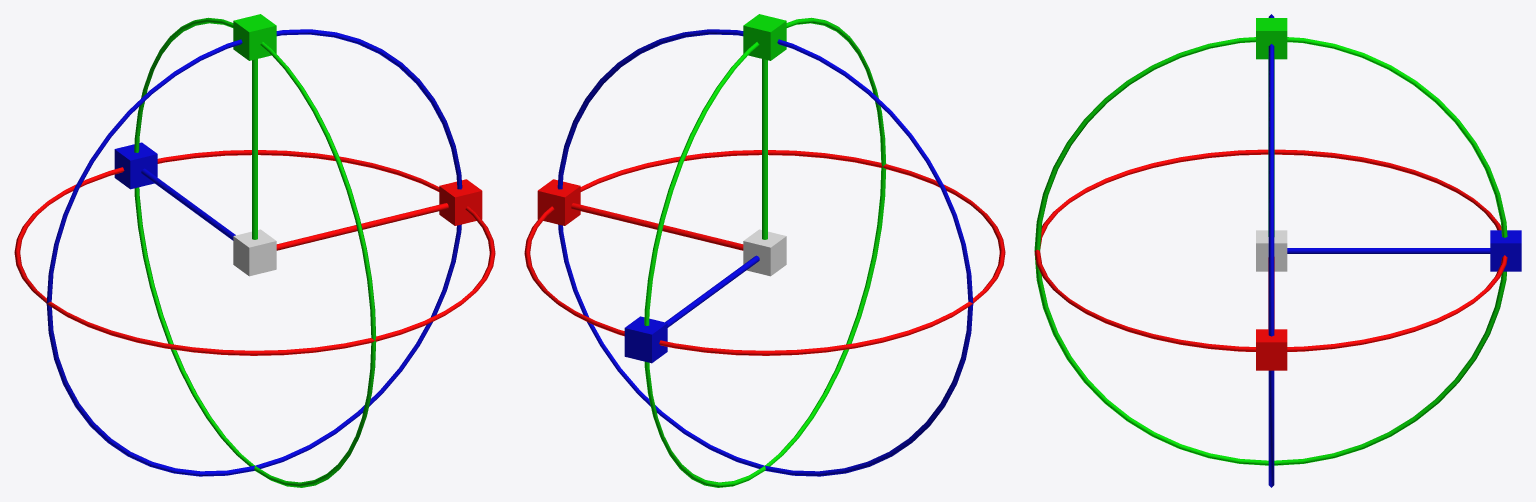
File: Gizmo.glb
3 views of the same model, side by side, from view 1: azimuth 30°, elevation 25°; view 2: azimuth 150°, elevation 25°; view 3: azimuth 270°, elevation 25° (orthographic).
Visible parts, largest first — view 1: Rot_Curve_Z, Rot_Curve_Y, Rot_Curve_X, Scale_Cube_Y, Scale_Cube_X, Scale_Cube_Z, Center_Cube.002, X_Cylinder.001, Move_Cone_Z; view 2: Rot_Curve_Z, Rot_Curve_Y, Rot_Curve_X, Scale_Cube_Y, Scale_Cube_X, Scale_Cube_Z, Center_Cube.002, X_Cylinder.001; view 3: Rot_Curve_Y, Rot_Curve_X, Rot_Curve_Z, Scale_Cube_Z, Scale_Cube_Y, Scale_Cube_X, Center_Cube.002, Move_Cone_Z.
Part boxes in pixels (bbox=[...]): Rot_Curve_Z: bbox=[46, 29, 462, 476]; Rot_Curve_Y: bbox=[134, 17, 376, 487]; Rot_Curve_X: bbox=[14, 150, 495, 355]; Scale_Cube_Y: bbox=[233, 14, 276, 239]; Scale_Cube_X: bbox=[276, 179, 482, 250]; Scale_Cube_Z: bbox=[114, 142, 235, 238]; Center_Cube.002: bbox=[233, 229, 276, 276]; X_Cylinder.001: bbox=[277, 198, 448, 250]; Move_Cone_Z: bbox=[130, 157, 233, 240]; Rot_Curve_Z: bbox=[557, 29, 973, 476]; Rot_Curve_Y: bbox=[644, 17, 886, 487]; Rot_Curve_X: bbox=[524, 150, 1005, 355]; Scale_Cube_Y: bbox=[743, 14, 786, 239]; Scale_Cube_X: bbox=[537, 179, 743, 248]; Scale_Cube_Z: bbox=[624, 255, 759, 363]; Center_Cube.002: bbox=[743, 229, 786, 276]; X_Cylinder.001: bbox=[566, 191, 743, 250]; Rot_Curve_Y: bbox=[1034, 37, 1507, 465]; Rot_Curve_X: bbox=[1034, 149, 1507, 351]; Rot_Curve_Z: bbox=[1268, 14, 1274, 487]; Scale_Cube_Z: bbox=[1287, 230, 1521, 271]; Scale_Cube_Y: bbox=[1256, 18, 1287, 236]; Scale_Cube_X: bbox=[1256, 257, 1287, 370]; Center_Cube.002: bbox=[1256, 230, 1287, 271]; Move_Cone_Z: bbox=[1287, 248, 1490, 253].
Size of the model in its own units: 31.18 by 31.18 by 31.18.
